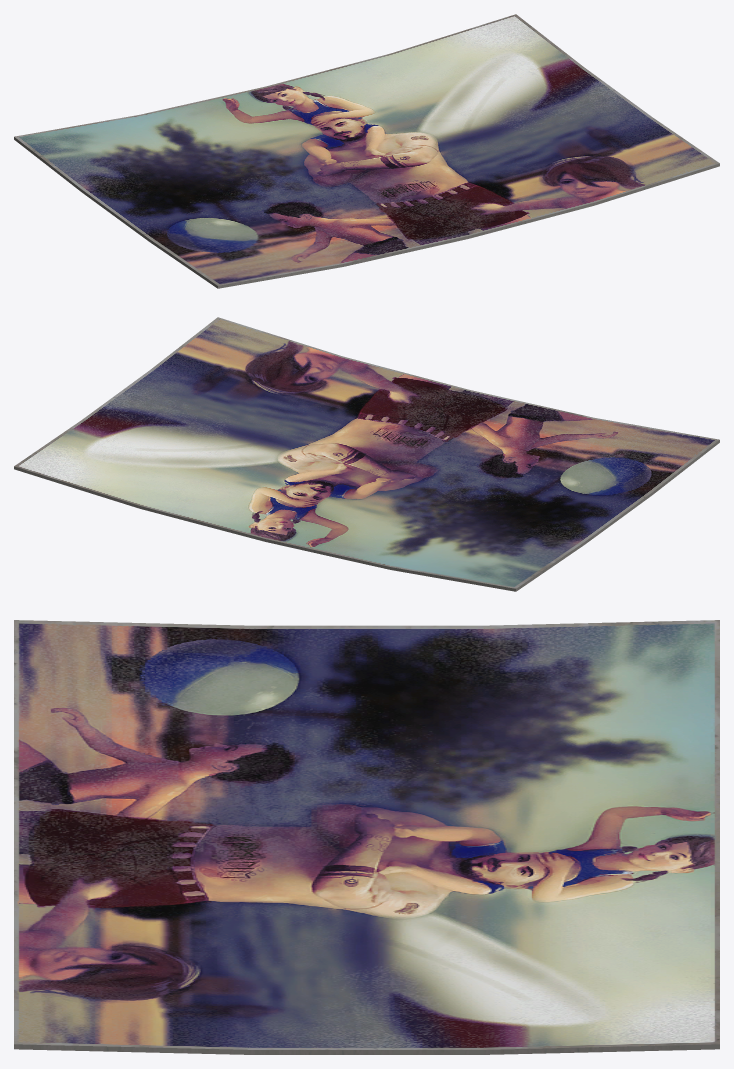
Rendered from 02_05_Konrad_family.dae.
3 views of the same model, one above another, from view 1: azimuth 30°, elevation 25°; view 2: azimuth 150°, elevation 25°; view 3: azimuth 270°, elevation 25° (orthographic). The views are drawn at different scales.
Visible parts, largest first — view 1: konrad_family; view 2: konrad_family; view 3: konrad_family.
Boxes of the visible parts, left/top/right/bottom form: konrad_family: left=14, top=14, right=719, bottom=288; konrad_family: left=14, top=317, right=719, bottom=591; konrad_family: left=14, top=620, right=719, bottom=1054.
Bounding box in the file's own units: 21.7 × 0.6711 × 15.26.
